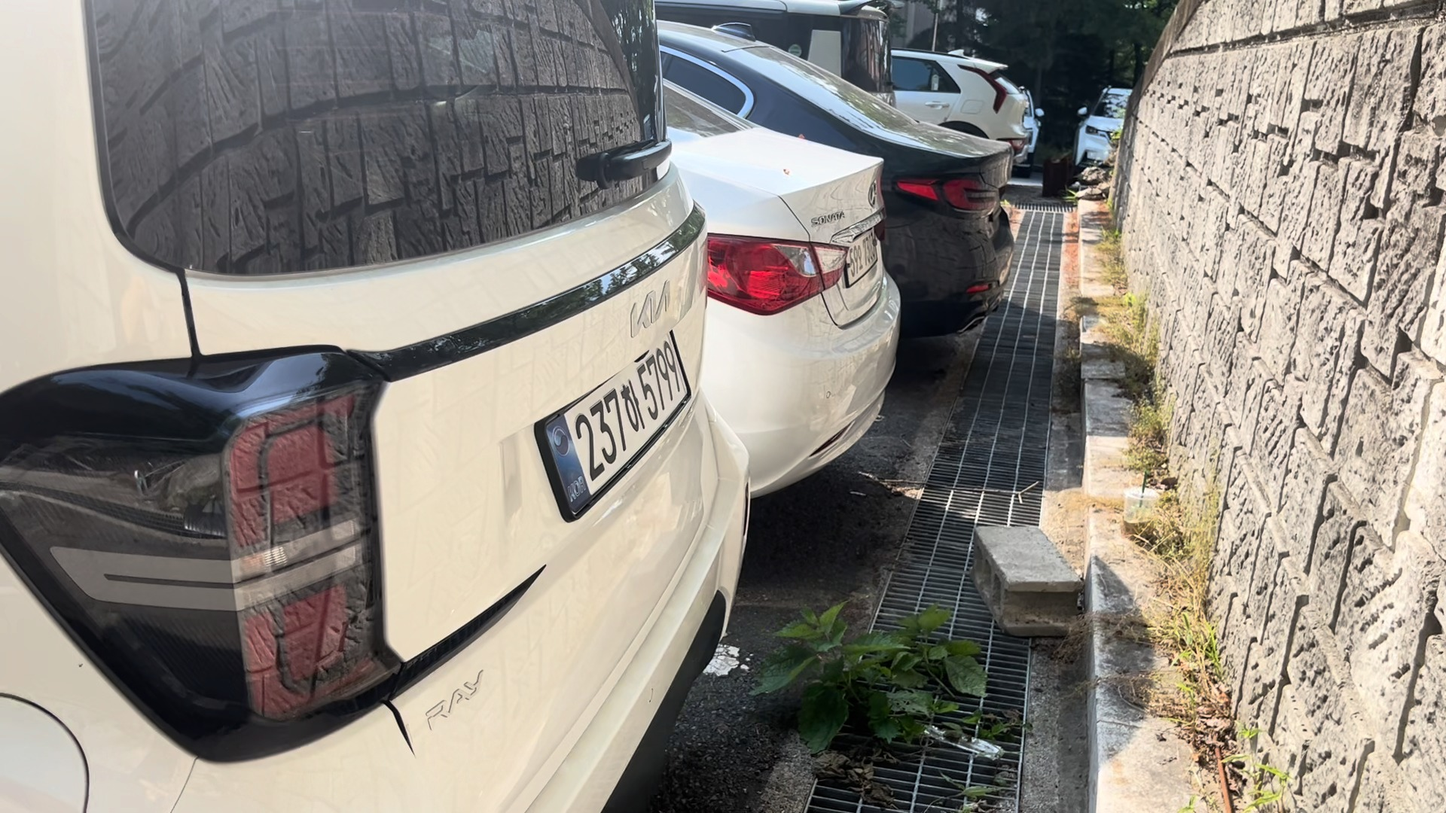car_emblem: (626, 274, 670, 349)
license_plate: (538, 332, 690, 519)
tail_light: (0, 352, 399, 760), (707, 235, 847, 315), (895, 177, 999, 212)
